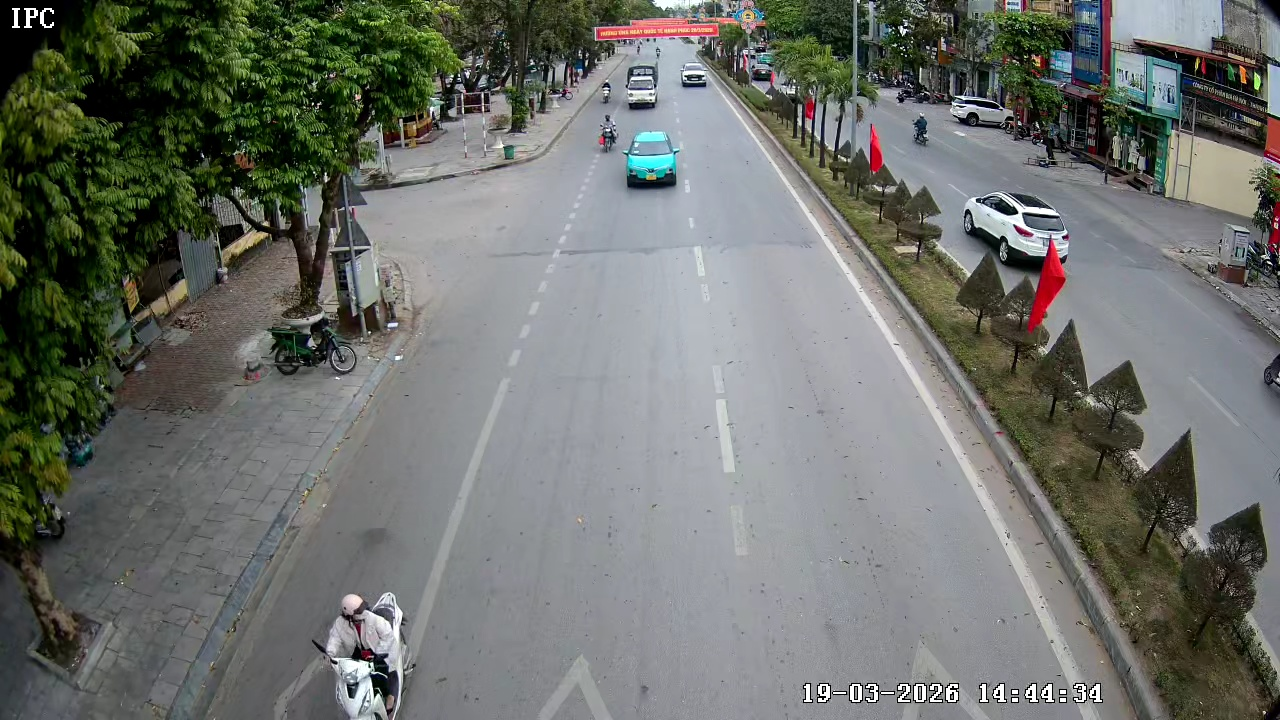car: (961, 189, 1070, 264), (621, 129, 681, 190), (679, 60, 710, 88)
exception: (311, 592, 410, 719)
motorbike: (266, 307, 363, 377), (594, 112, 623, 153), (601, 78, 613, 102)
truck: (625, 62, 663, 108)
